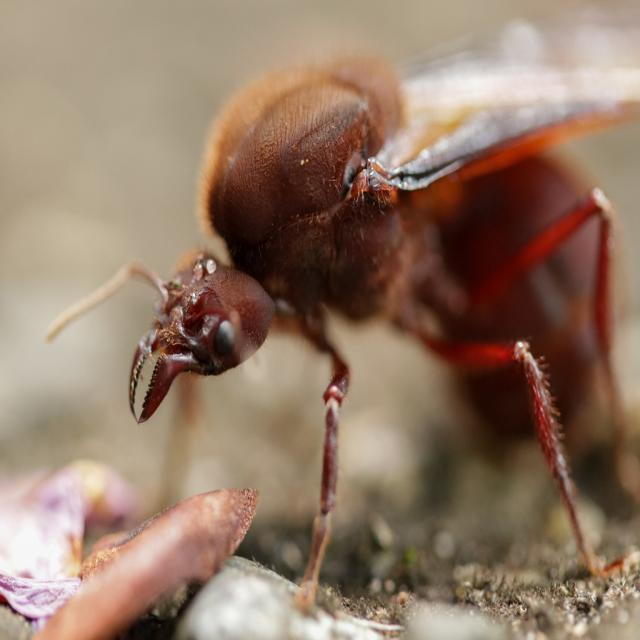Alive-Female-Alate: (44, 55, 640, 610)
